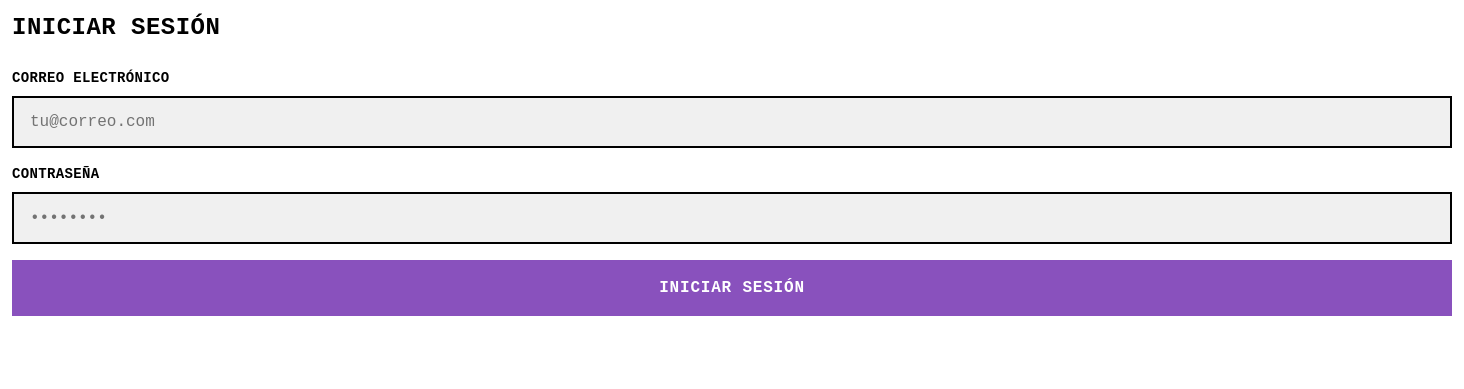
Test: LoginForm Integration › shows validation errors for empty fields
Click the button "Iniciar Sesión" at (732, 288), box [12, 260, 1452, 316]
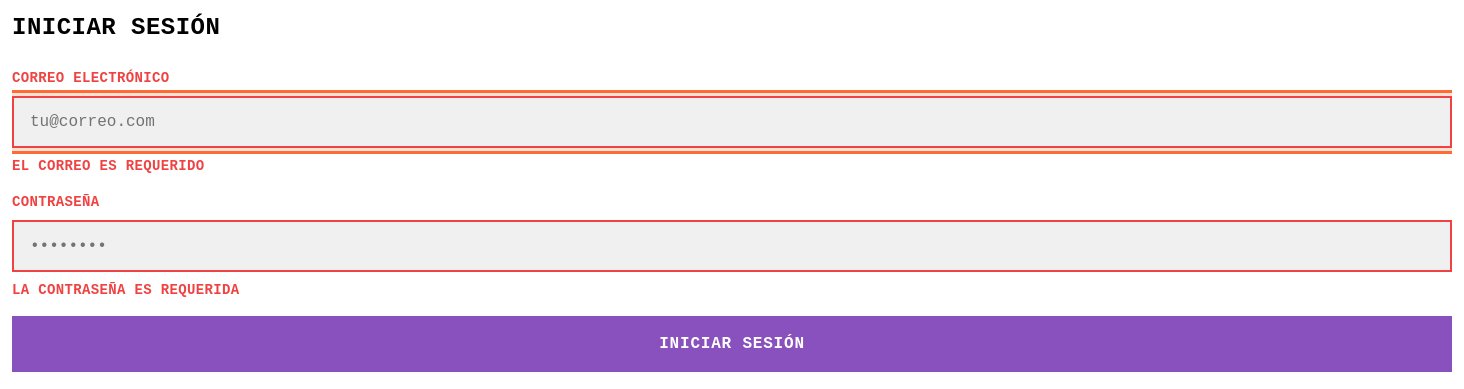
Check: the text "El correo es requerido" is shown, box [12, 158, 204, 174]
